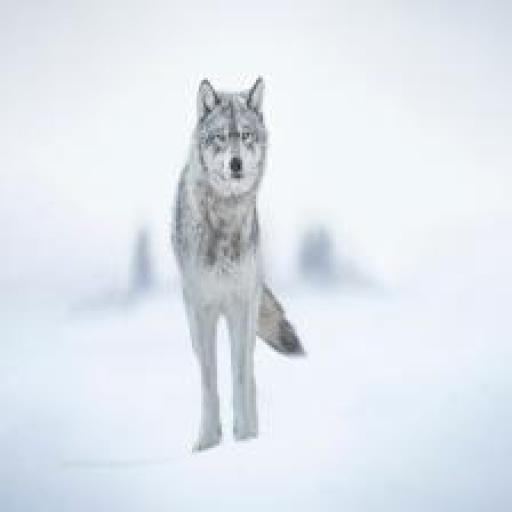wolf: (158, 68, 316, 486)
